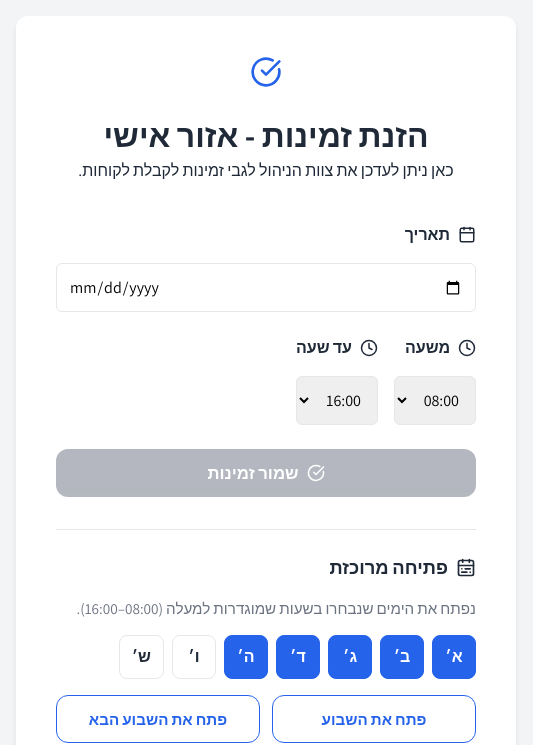
Test: EmployeeAvailabilityPage › bulk open › shows an informative message when nothing qualifies
The image size is (533, 745).
Expected: the heading "פתיחה מרוכזת" is shown, left=329, top=555, right=476, bottom=579
Click the button "א׳".
click(454, 657)  # box left=432, top=635, right=476, bottom=679
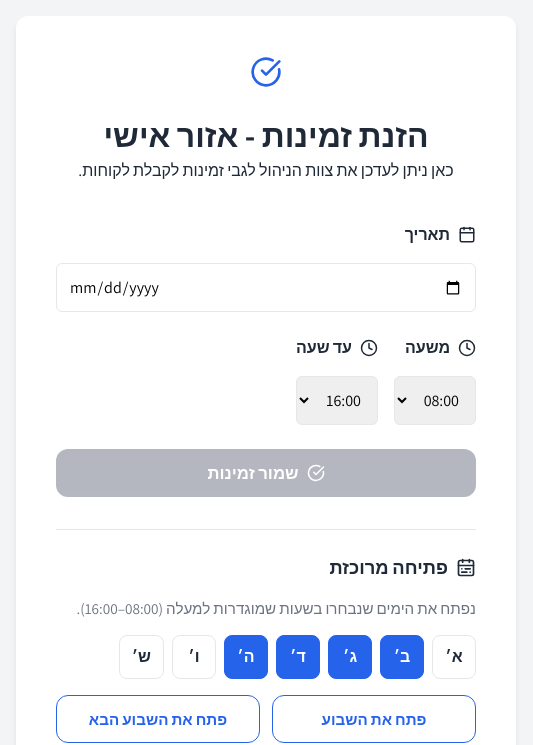
Click the button "ב׳".
click(402, 657)  # box left=380, top=635, right=424, bottom=679
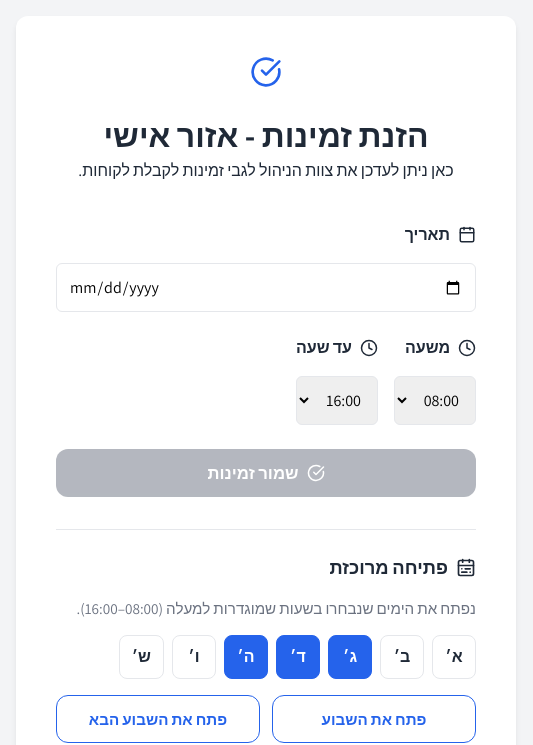
Click the button "ג׳".
click(350, 657)  # box left=328, top=635, right=372, bottom=679
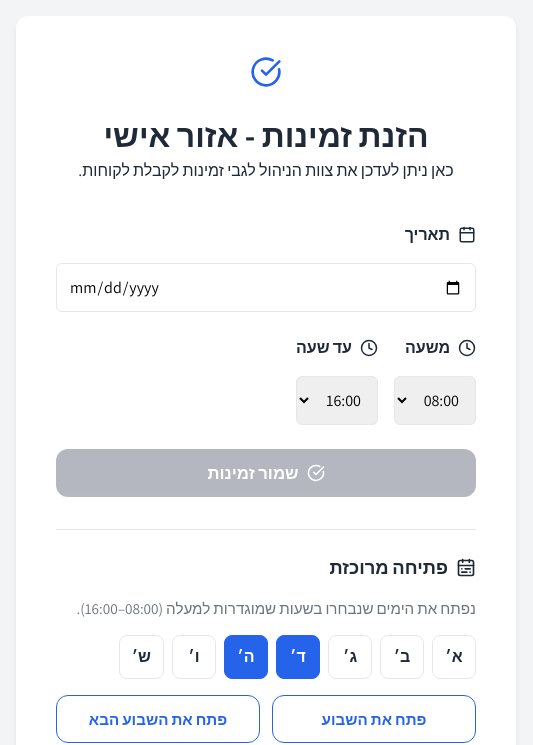
Click the button "ד׳".
click(298, 657)  # box left=276, top=635, right=320, bottom=679
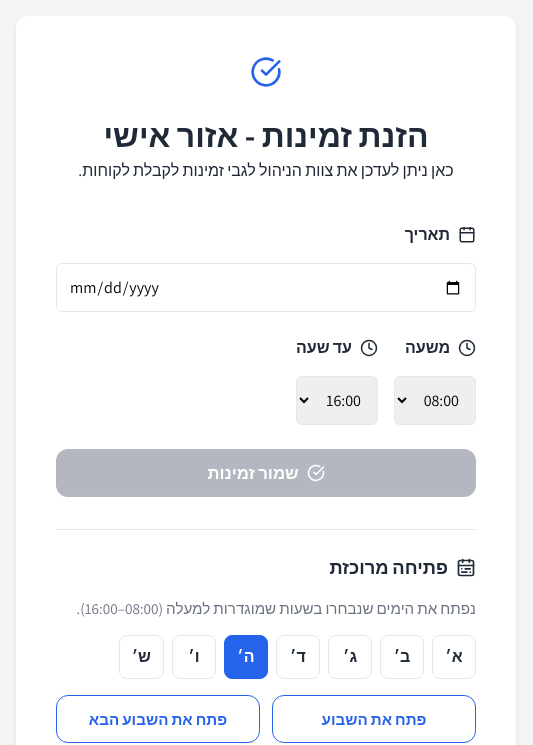
Click the button "ה׳".
click(246, 657)  # box left=224, top=635, right=268, bottom=679
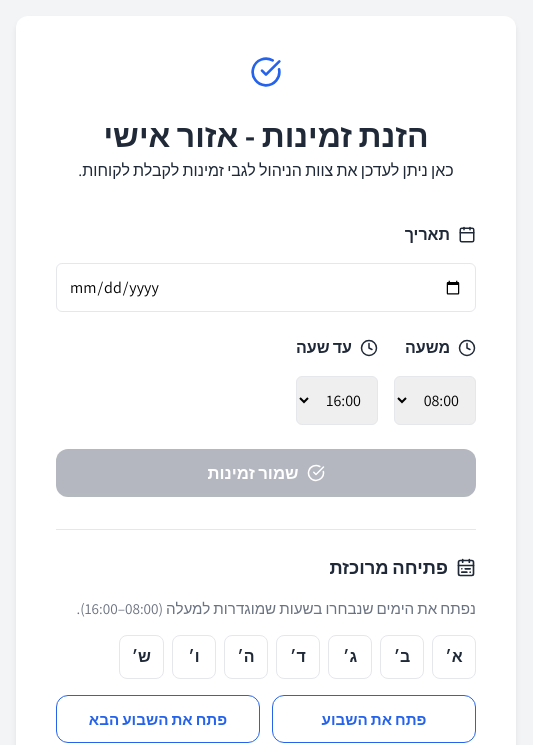
Click the button "פתח את השבוע".
click(374, 719)  # box left=272, top=695, right=476, bottom=743
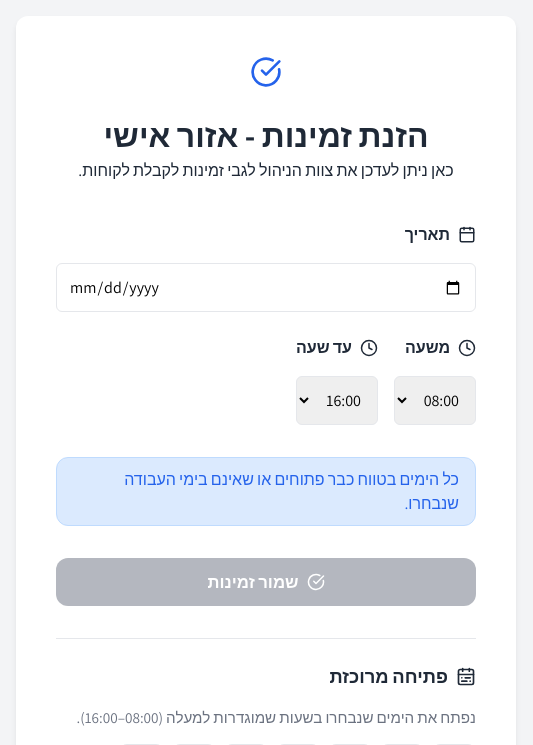
Result: the text "כל הימים בטווח כבר פתוחים או שאינם בימי העבודה שנבחרו." is shown at left=56, top=457, right=476, bottom=526
